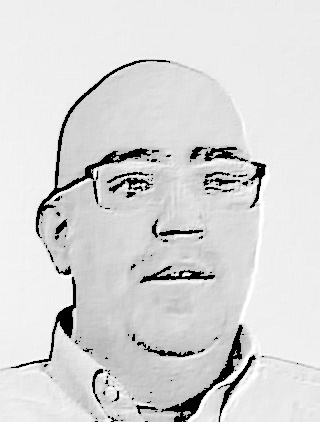nose_M_C: (150, 185, 210, 258)
